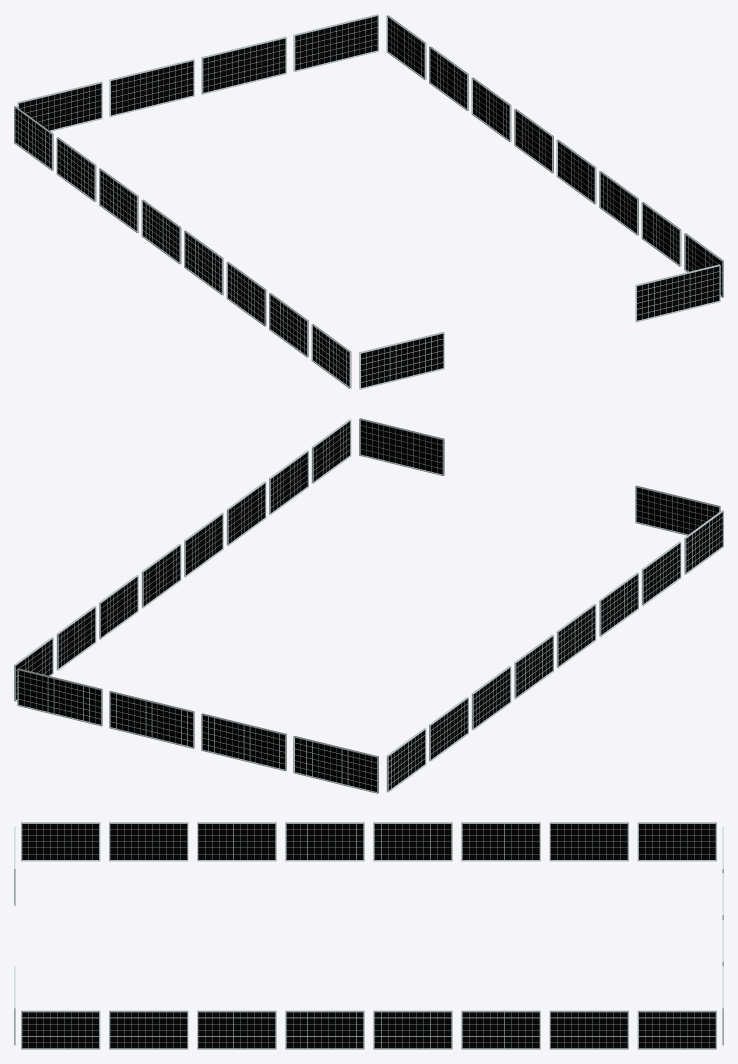
Rendered from FINESTRE.fbx.
3 renders of one model, top to bottom at view 1: azimuth 30°, elevation 25°; view 2: azimuth 150°, elevation 25°; view 3: azimuth 270°, elevation 25°, orthographic. The views are drawn at different scales.
Parts seen in each view (by area): view 1: Factory Wepo Interior_07; view 2: Factory Wepo Interior_07; view 3: Factory Wepo Interior_07.
Part boxes in pixels (box(x1,y1,x2,y2)): Factory Wepo Interior_07: box(14, 14, 723, 389); Factory Wepo Interior_07: box(14, 418, 723, 793); Factory Wepo Interior_07: box(14, 822, 723, 1049).
Bounding box in the file's own units: 2540 × 240 × 4030.
